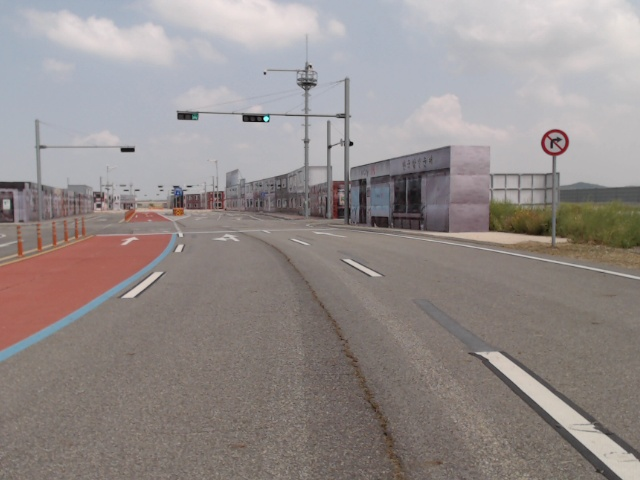straight_green_4: (242, 114, 271, 123)
